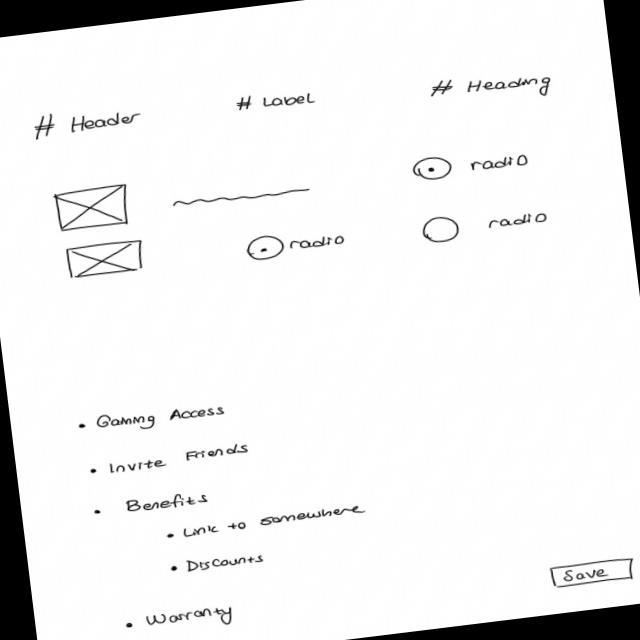button: (549, 556, 636, 590)
image: (54, 184, 133, 233), (64, 239, 147, 281)
label: (182, 503, 368, 540), (428, 66, 556, 112), (94, 400, 228, 438), (108, 441, 252, 476), (31, 102, 147, 144), (145, 604, 236, 636), (236, 87, 319, 115), (125, 490, 212, 516), (185, 550, 267, 575)
radio: (421, 204, 551, 246), (412, 145, 532, 184), (247, 225, 349, 263)
text: (171, 183, 313, 211)
